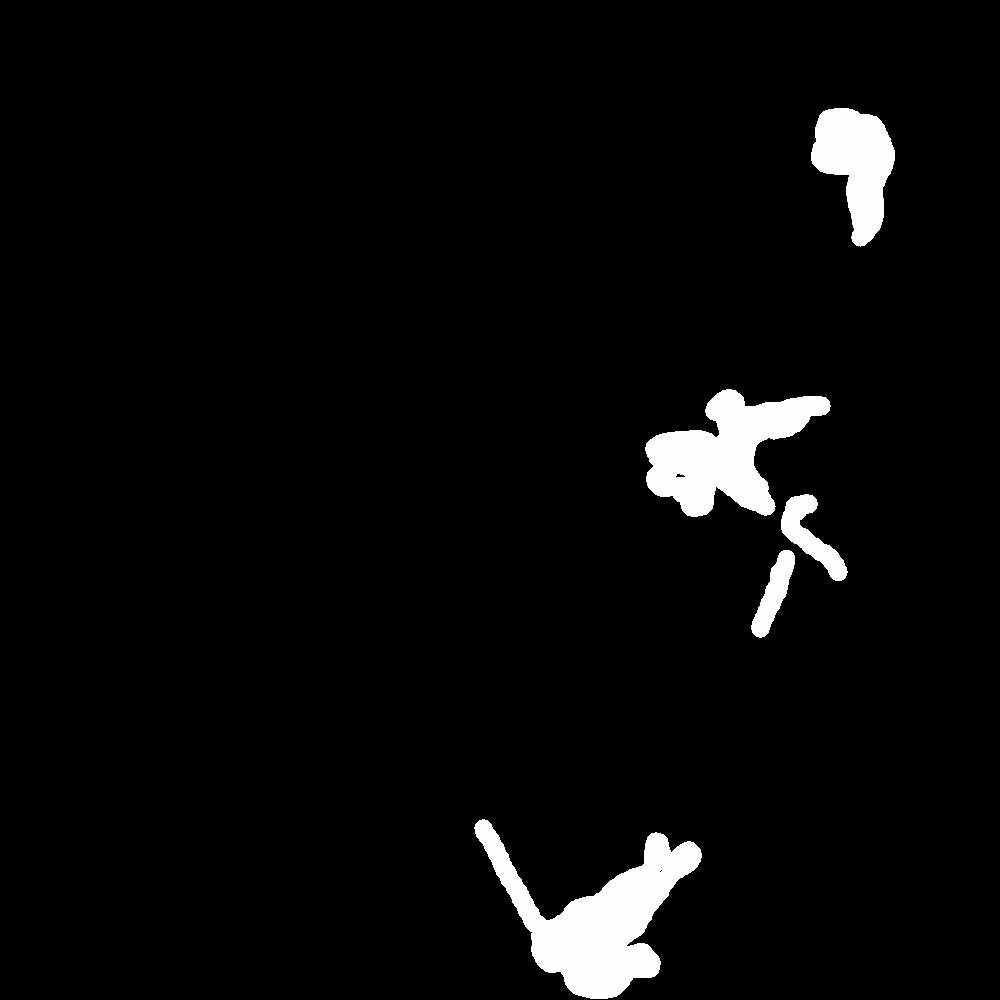illegal: (649, 393, 822, 515), (533, 859, 687, 995), (806, 108, 897, 247)
